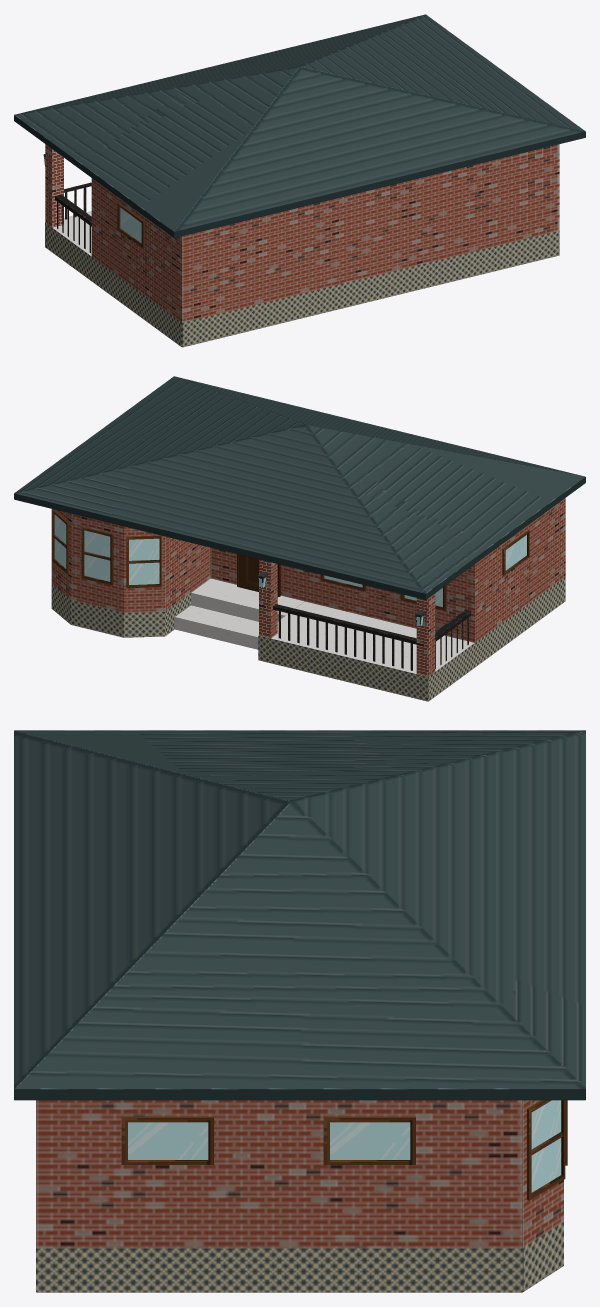
Rendered from House_1.fbx.
3 renders of one model, top to bottom at view 1: azimuth 30°, elevation 25°; view 2: azimuth 150°, elevation 25°; view 3: azimuth 270°, elevation 25°, orthographic. The views are drawn at different scales.
Parts seen in each view (by area): view 1: roof, base, pillar_1, windows_5; view 2: roof, base, pillar_1, windows, pillar, windows_2, door, frame_2, frame, bannister_1, windows_1, bannister (+2 smaller); view 3: roof, base, windows_6, windows_7, windows_1, frame_6, frame_7, frame_1.
Part boxes in pixels (x1,y1,x2,y2): roof: (14,14,585,237); base: (45,144,559,347); pillar_1: (45,144,63,227); windows_5: (120,208,141,243); roof: (14,376,585,599); base: (51,498,565,701); pillar_1: (416,593,435,676); windows: (129,538,159,584); pillar: (259,559,277,638); windows_2: (84,530,110,581); door: (237,554,280,596); frame_2: (81,526,113,585); frame: (126,535,161,588); bannister_1: (273,606,416,644); windows_1: (54,514,66,568); bannister: (273,604,416,640); roof: (14,730,585,1100); base: (36,1100,563,1292); windows_6: (330,1122,410,1159); windows_7: (128,1122,208,1159); windows_1: (531,1100,561,1192); frame_6: (323,1116,415,1164); frame_7: (121,1116,213,1164); frame_1: (527,1100,565,1200).
Size of the model in its own units: 2181 by 925 by 1469.
Materials: 8 (8 with a texture image).
